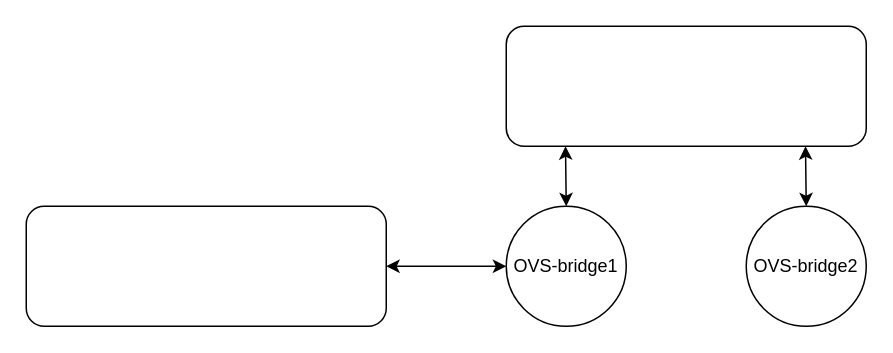
Image size: 893x353. Some labels were removed from this diagram. Here are the shapes that lost their labels. From the top down, the box of each, then its label:
(505, 25, 866, 146): ARM 封装/解封装
(25, 205, 386, 326): HOST
